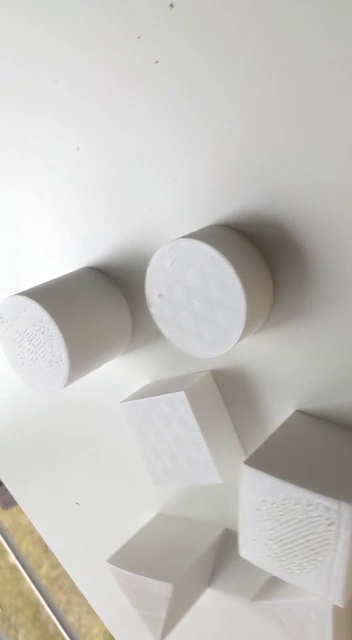Clyinder_short: (141, 221, 279, 363)
Cube: (240, 406, 352, 608)
Cube_short: (119, 363, 250, 499)
Cylinder: (1, 259, 134, 396)
Triangle: (105, 505, 227, 640)
Triangle_short: (239, 569, 352, 640)
